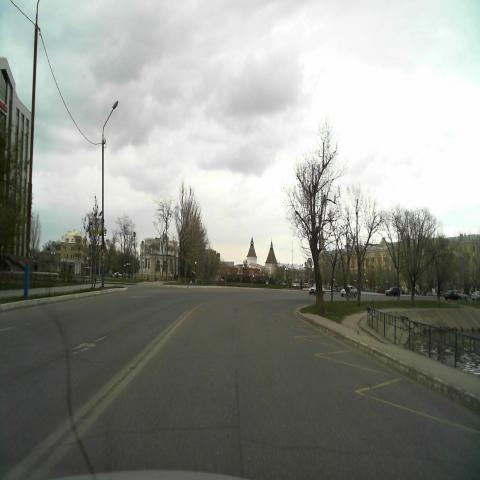3_18_2: (306, 256, 312, 270)
